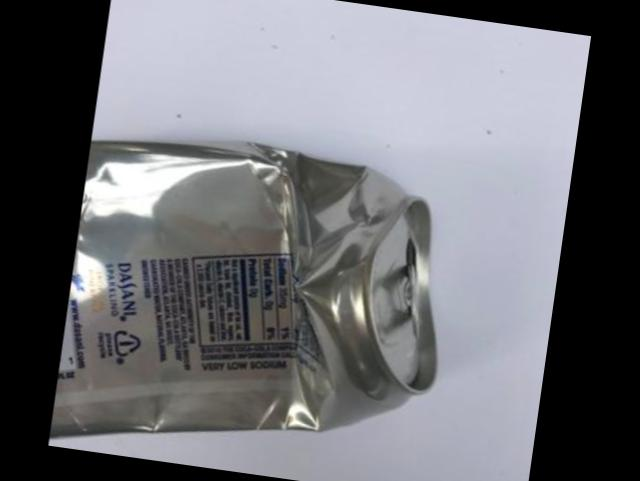metal: (50, 139, 439, 435)
